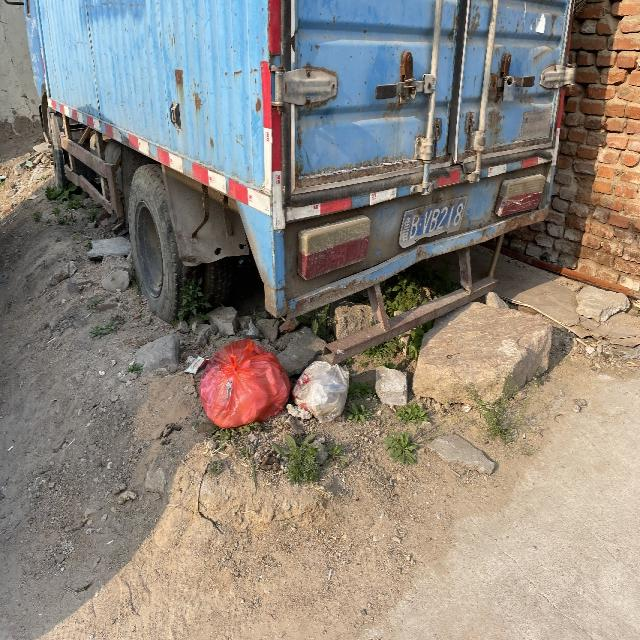garbage: (183, 336, 349, 430)
